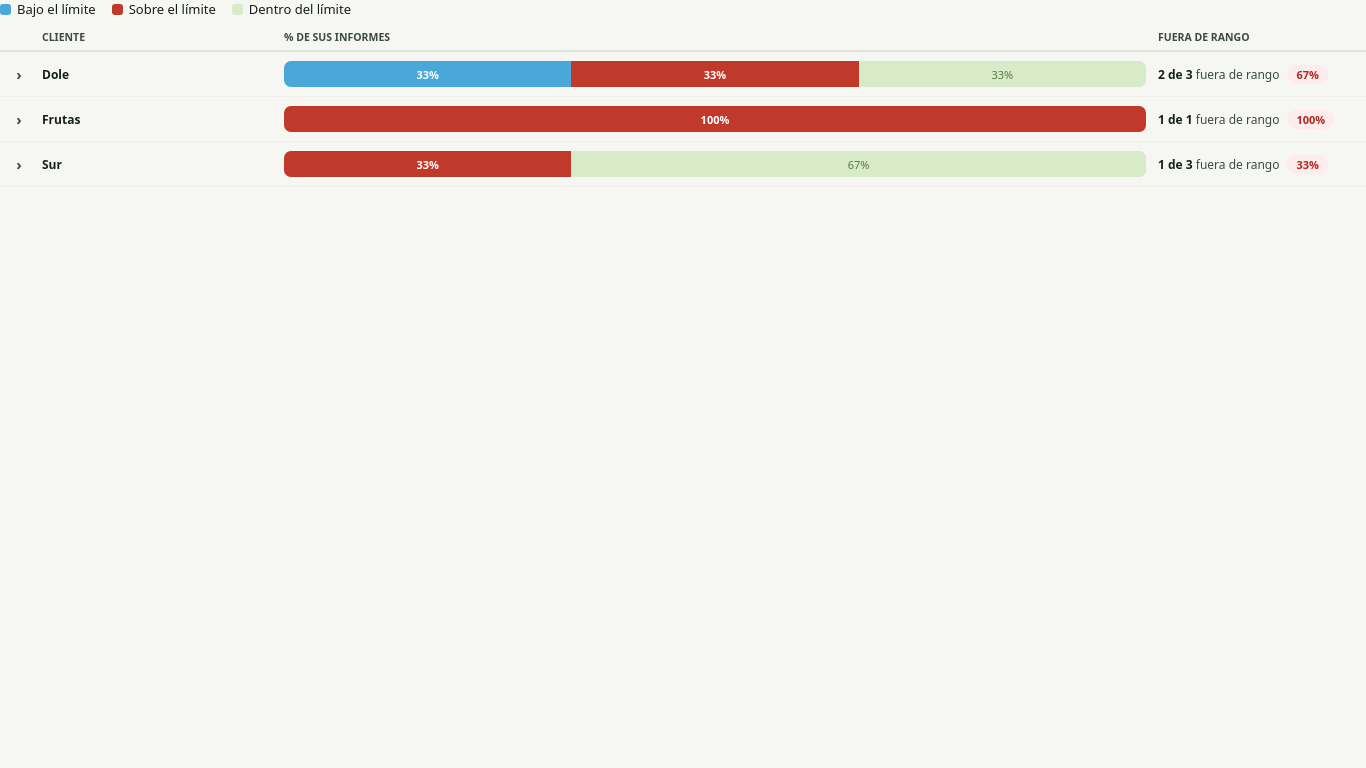
Test: ResultadosPorCliente › el clic en la barra abre cuánto se pasaron ESE cliente, sin la columna de cliente
Click the button named "Dole: ver cuánto se pasaron" at coordinates (715, 74), box top-left (284, 61), bottom-right (1146, 87)
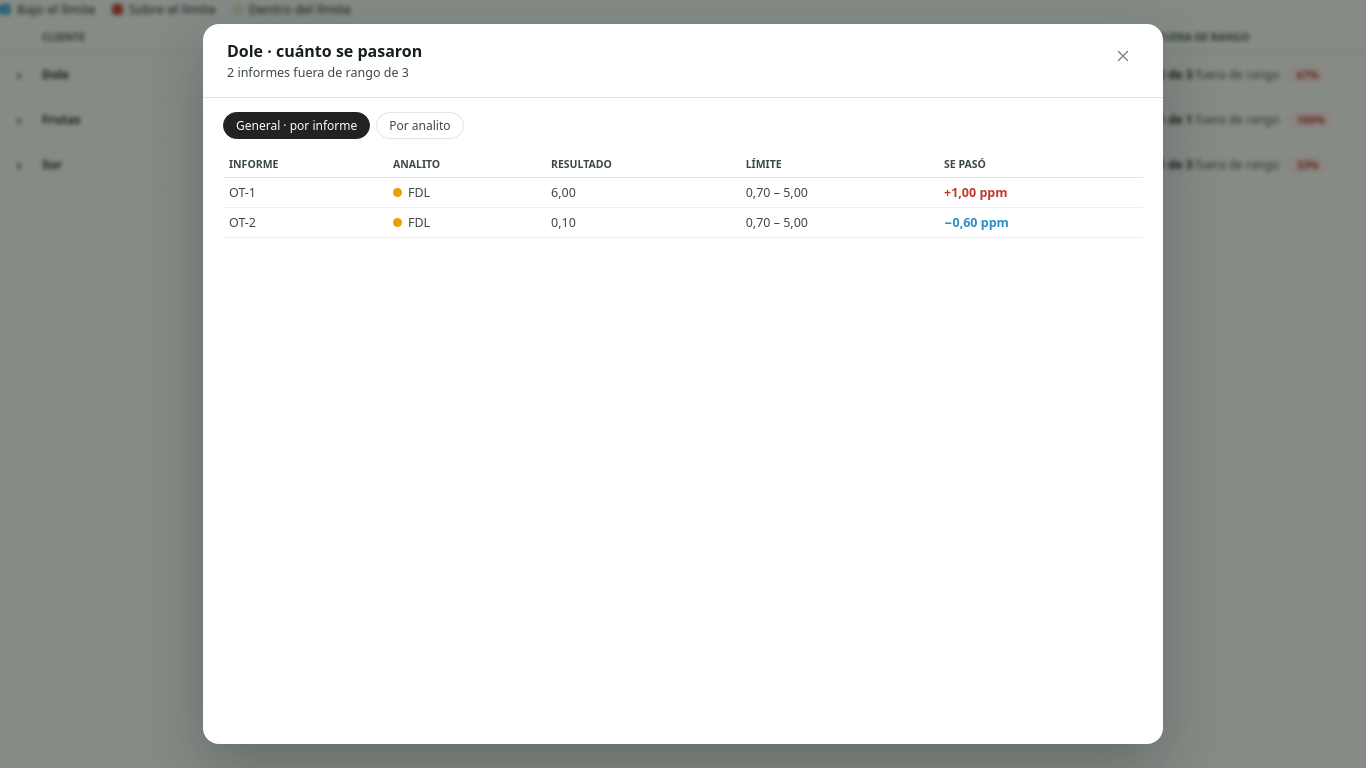
Check: the number of rows is 3, box top-left (223, 151), bottom-right (1143, 178); top-left (223, 178), bottom-right (1143, 208); top-left (223, 208), bottom-right (1143, 238)
Check: the text "+1,00 ppm" is shown, box top-left (938, 178), bottom-right (1143, 208)
